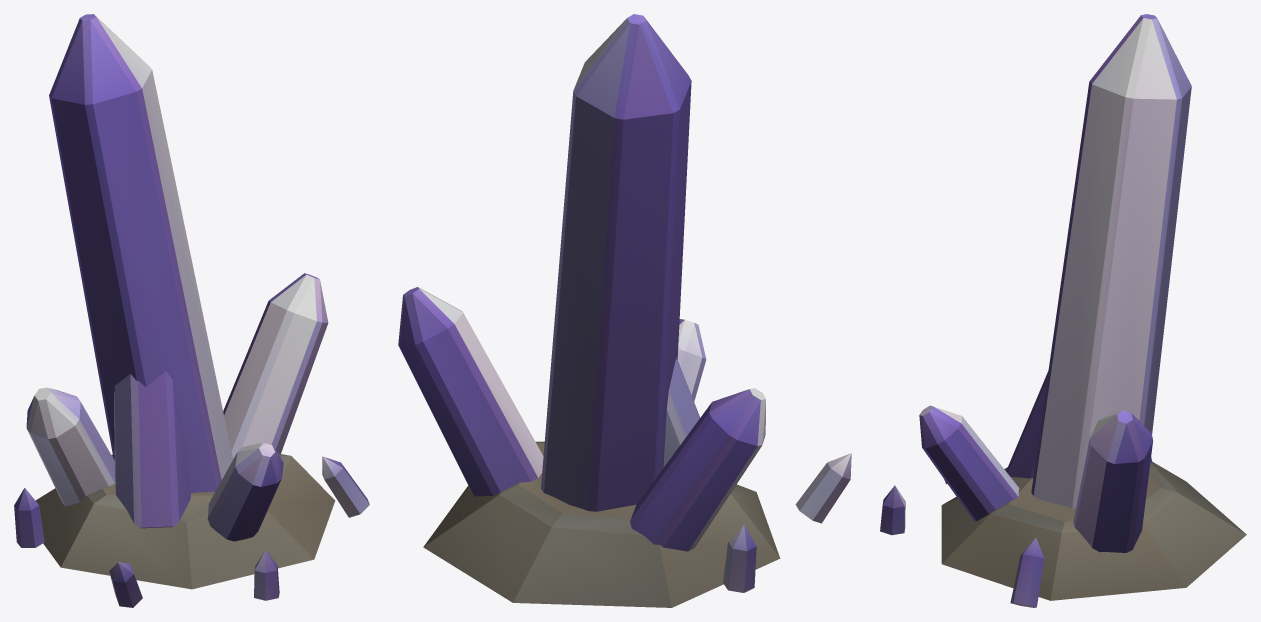
Rendered from glass-crystals-2.low.glb.
3 views of the same model, side by side, from view 1: azimuth 30°, elevation 25°; view 2: azimuth 150°, elevation 25°; view 3: azimuth 270°, elevation 25° (orthographic). The views are drawn at different scales.
Visible parts, largest first — view 1: glass-crystals-2; view 2: glass-crystals-2; view 3: glass-crystals-2.
Boxes of the visible parts, left/top/right/bottom form: glass-crystals-2: left=14, top=14, right=369, bottom=607; glass-crystals-2: left=398, top=14, right=851, bottom=607; glass-crystals-2: left=880, top=14, right=1246, bottom=607.
Bounding box in the file's own units: 0.7453 × 1.16 × 0.7766.
